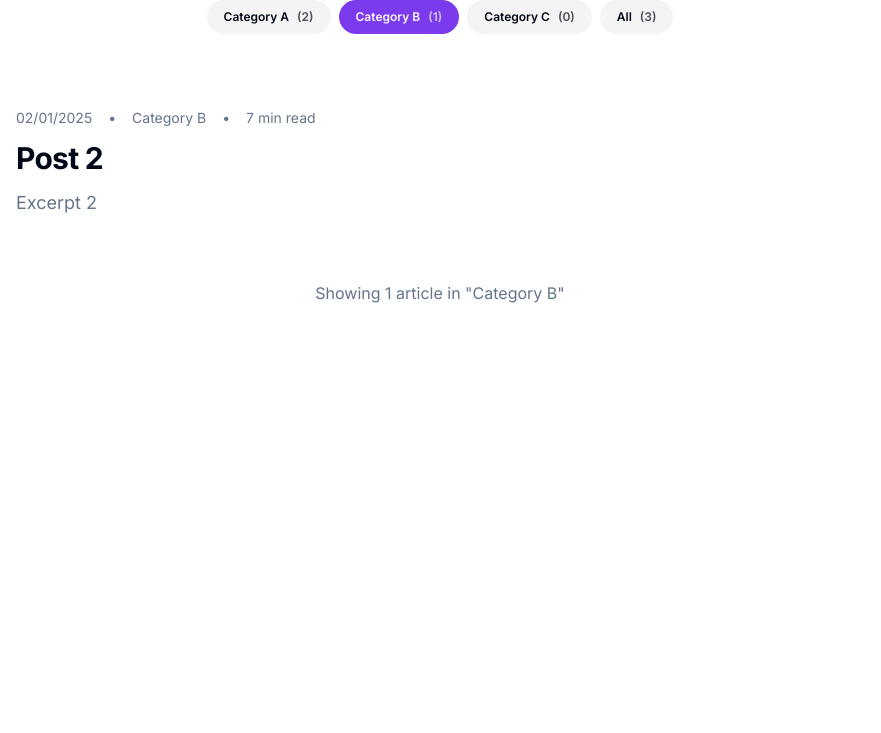
Scenario: BlogList › shows all posts after clicking "View all posts"
# Click on a category with no posts
Click the text "Category C" at (530, 17), box [467,0,592,34]
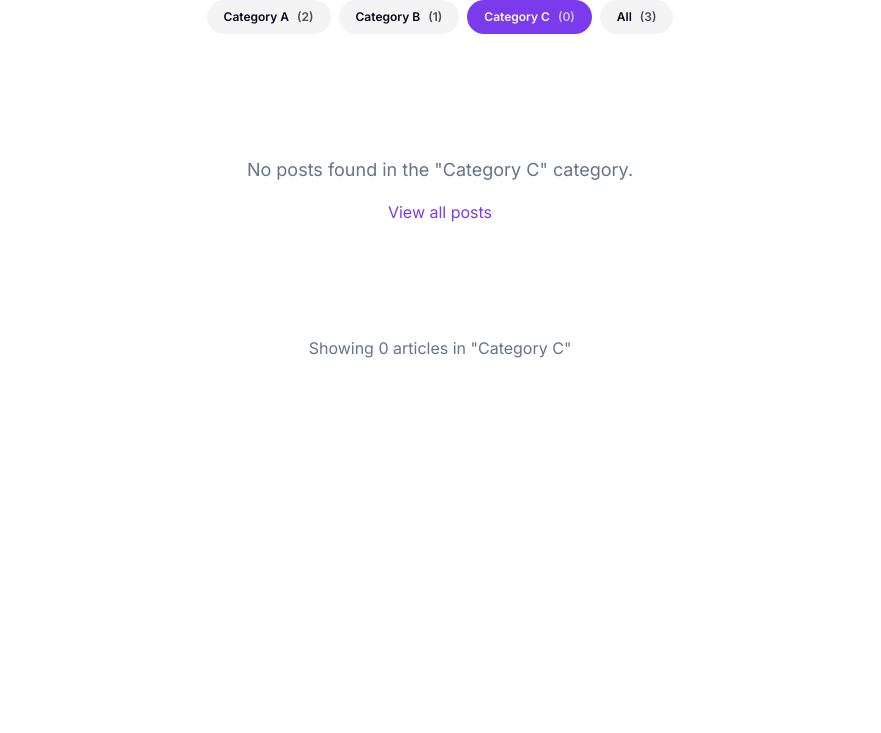
Now the text "No posts found in the \"Category C\" category." is shown, box [247,159,633,180]
# Click the "View all posts" button
Click the button "View all posts" at (440, 212), box [388,200,492,224]
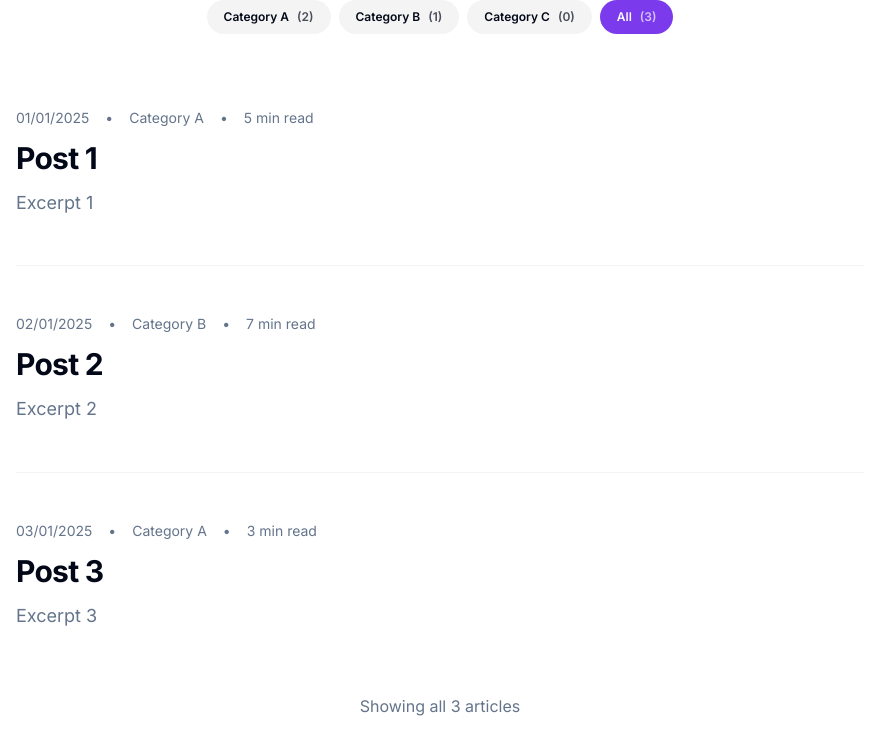
Now the heading "Post 1" is shown, box [16,140,97,176]
Now the heading "Post 2" is shown, box [16,346,103,382]
Now the heading "Post 3" is shown, box [16,552,103,588]
